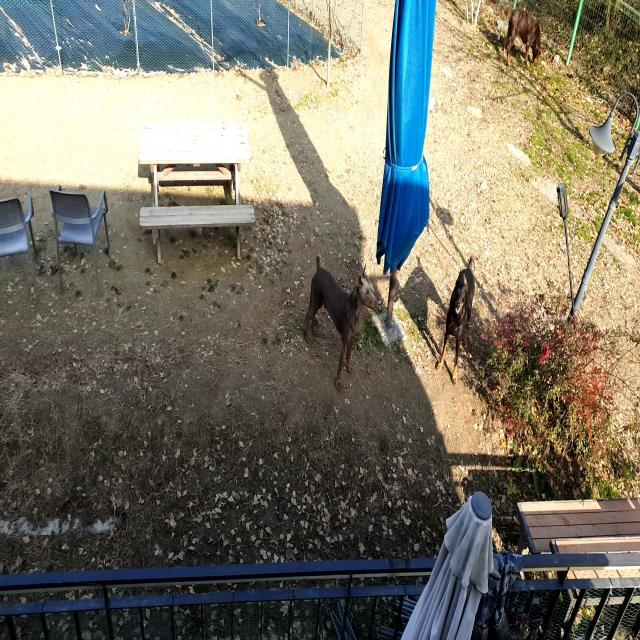Dog: (303, 258, 377, 393), (435, 255, 475, 386)
